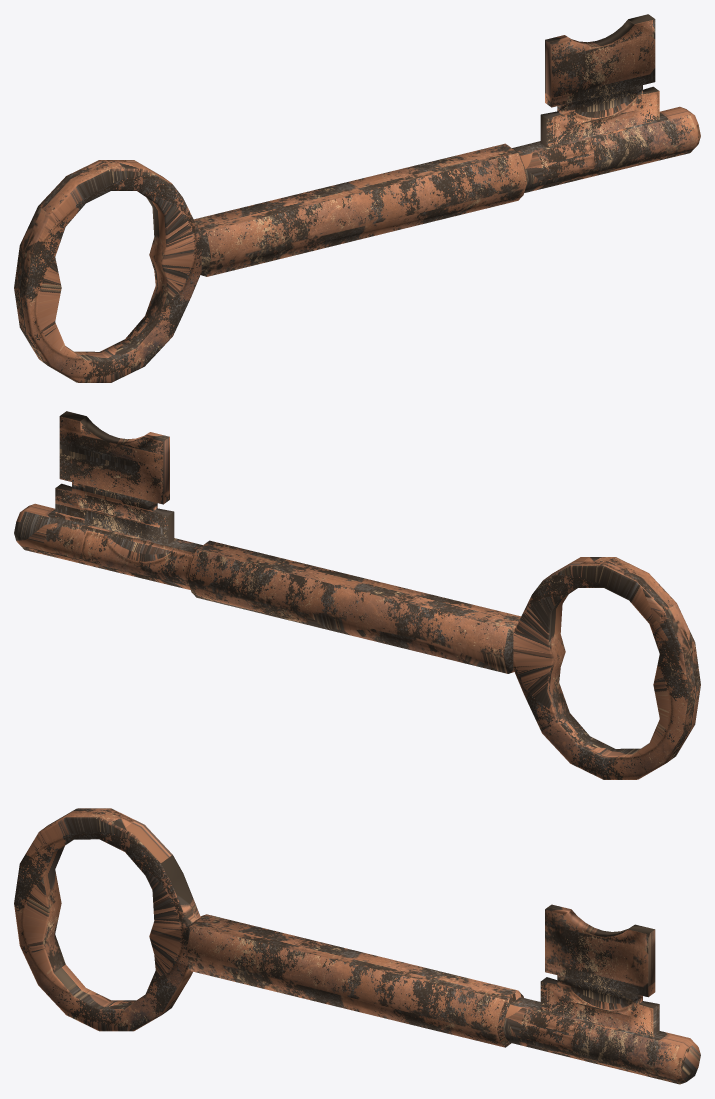
The model's file is chave antiga.fbx.
The picture shows the model from 3 angles, top to bottom: view 1: azimuth 30°, elevation 25°; view 2: azimuth 150°, elevation 25°; view 3: azimuth 330°, elevation 25°; orthographic projection.
Parts seen in each view (by area): view 1: Old_Key; view 2: Old_Key; view 3: Old_Key.
Boxes of the visible parts, bbox=[...] form: Old_Key: bbox=[14, 14, 700, 382]; Old_Key: bbox=[14, 411, 700, 779]; Old_Key: bbox=[14, 808, 700, 1084].
Bounding box in the file's own units: 275 × 89.75 × 21.41.
